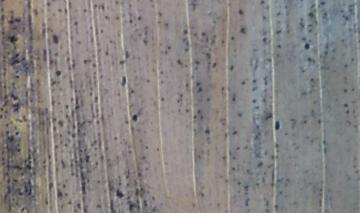tarspot: (187, 1, 200, 12), (126, 199, 136, 213), (108, 197, 117, 212), (79, 180, 87, 196), (297, 16, 306, 30), (115, 187, 125, 199), (50, 33, 60, 45), (10, 101, 20, 113), (26, 178, 33, 195), (273, 119, 281, 132), (8, 34, 18, 44), (263, 111, 273, 121), (120, 74, 127, 88), (59, 159, 68, 169), (48, 77, 57, 87), (341, 12, 350, 22), (62, 6, 70, 17), (32, 7, 40, 18), (9, 92, 18, 101), (56, 119, 65, 128), (10, 58, 20, 66), (55, 188, 63, 198), (47, 180, 55, 190), (255, 160, 265, 168), (181, 36, 189, 46), (131, 112, 138, 123), (123, 48, 130, 59), (141, 197, 148, 208), (135, 14, 143, 23), (7, 134, 15, 143), (157, 78, 166, 86), (94, 202, 103, 210), (133, 187, 139, 199), (117, 59, 128, 65), (238, 26, 246, 34), (203, 127, 211, 135), (158, 95, 166, 103), (102, 14, 110, 22), (182, 46, 190, 54), (73, 103, 81, 111), (140, 153, 148, 161), (303, 42, 310, 51), (237, 7, 244, 16), (228, 63, 235, 72), (53, 69, 62, 76), (210, 60, 217, 69), (273, 28, 282, 35), (307, 10, 314, 19), (142, 38, 149, 47), (13, 16, 22, 23), (261, 13, 268, 22), (84, 154, 91, 163), (92, 94, 99, 103), (320, 11, 329, 18), (177, 91, 184, 100), (230, 93, 236, 103), (182, 27, 189, 35), (196, 86, 203, 94), (162, 21, 170, 28), (156, 10, 163, 18), (204, 51, 211, 59), (193, 58, 201, 65), (231, 129, 238, 137), (198, 113, 205, 121), (273, 141, 280, 149), (274, 10, 281, 18), (136, 171, 143, 179), (143, 143, 150, 151), (264, 57, 273, 63), (1, 13, 6, 23), (175, 58, 182, 65), (127, 18, 134, 25), (275, 42, 282, 49), (72, 20, 79, 27), (114, 15, 121, 22), (7, 18, 14, 25), (236, 111, 243, 118), (112, 135, 119, 142), (47, 58, 54, 65), (144, 77, 151, 84), (191, 113, 198, 120), (300, 35, 307, 42), (175, 97, 182, 104), (91, 3, 98, 10), (261, 35, 267, 43), (82, 58, 88, 66), (99, 3, 105, 11), (24, 164, 32, 170), (16, 146, 22, 154), (157, 69, 165, 75), (196, 107, 202, 115), (71, 123, 77, 131), (75, 201, 81, 209), (3, 121, 9, 129), (319, 1, 328, 6), (184, 80, 189, 89), (251, 77, 257, 84), (240, 79, 246, 86), (342, 102, 349, 108), (344, 108, 350, 115), (194, 79, 200, 86), (200, 31, 207, 37), (229, 35, 235, 42), (342, 63, 349, 69), (129, 88, 135, 95), (90, 62, 97, 68), (82, 7, 88, 14), (45, 1, 51, 8), (13, 74, 20, 80), (166, 44, 173, 50), (251, 97, 257, 104), (220, 38, 226, 45), (17, 190, 23, 197), (70, 132, 76, 139), (347, 8, 354, 14), (231, 47, 238, 53), (184, 107, 190, 114), (35, 77, 41, 84), (306, 54, 311, 62), (95, 118, 100, 126), (99, 27, 104, 35), (56, 7, 62, 13), (13, 130, 19, 136), (338, 8, 344, 14), (283, 3, 289, 9), (259, 1, 266, 6), (205, 96, 210, 103), (342, 87, 347, 94), (350, 86, 355, 93), (64, 103, 69, 110), (104, 49, 109, 56), (13, 52, 19, 57), (126, 2, 131, 8), (302, 119, 307, 124), (114, 1, 119, 5), (1, 112, 2, 121), (148, 1, 154, 2)
